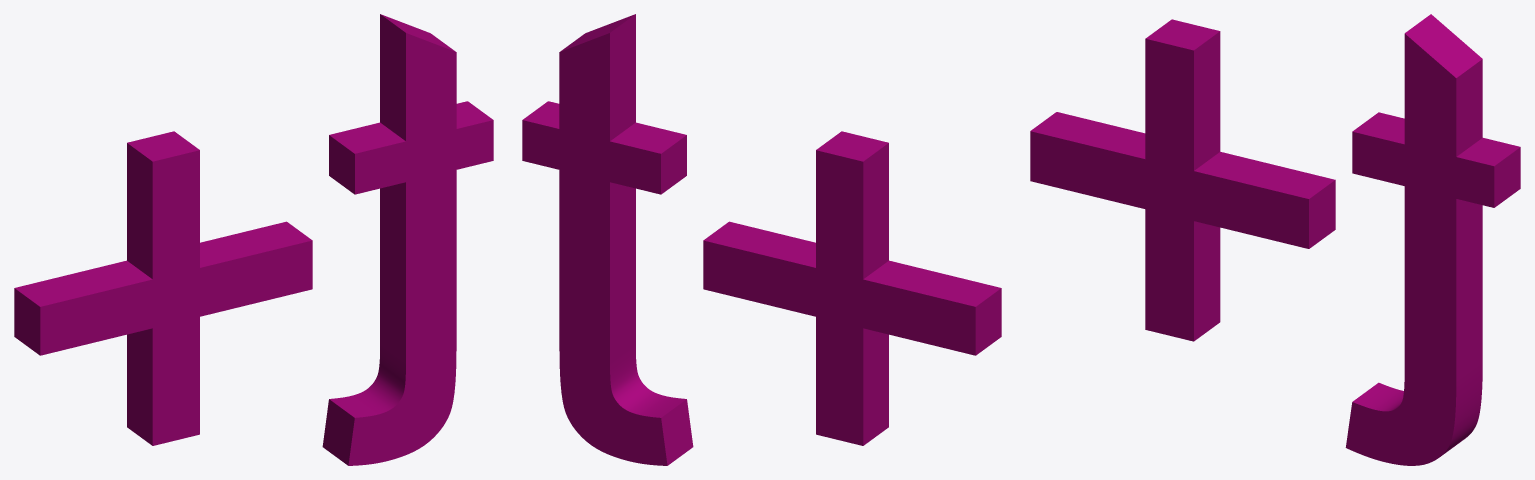
Rendered from TimeAdd.FBX.
3 renders of one model, left to right at view 1: azimuth 30°, elevation 25°; view 2: azimuth 150°, elevation 25°; view 3: azimuth 330°, elevation 25°, orthographic. The views are drawn at different scales.
Visible parts, largest first — view 1: Text001; view 2: Text001; view 3: Text001.
Boxes of the visible parts, left/top/right/bottom form: Text001: left=14, top=14, right=493, bottom=465; Text001: left=522, top=14, right=1001, bottom=465; Text001: left=1030, top=14, right=1520, bottom=465.
Size of the model in its own units: 70.9 by 63.31 by 7.
